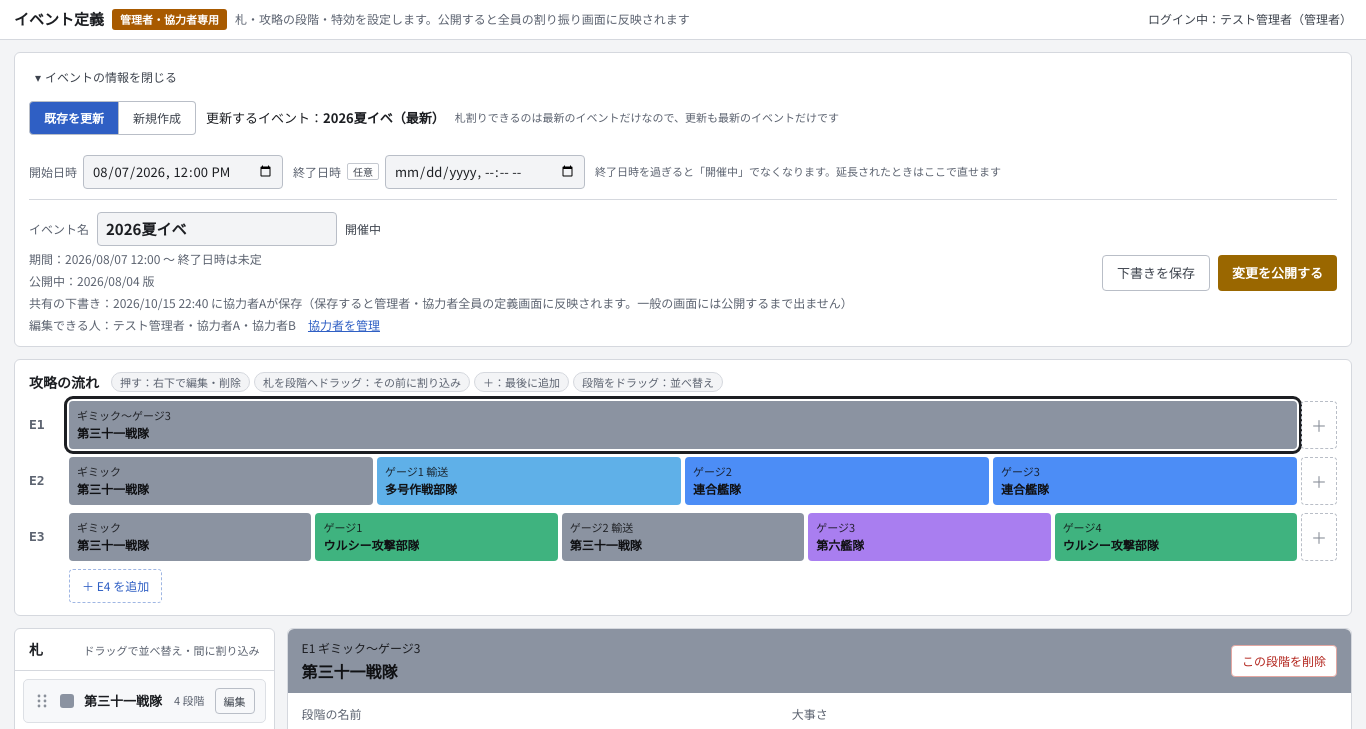
イベント定義の画面（PlanEditor）：段階の詳細 › 段階の削除 › 「この段階を削除」を押すと、削除の確認（「削除する」「やめる」）を出す
Expected: the element "攻略の流れ" is shown, [14,358,1352,616]
Click the button "ゲージ3 連合艦隊": (1020, 470) [993,456,1297,504]
(page scrolled)
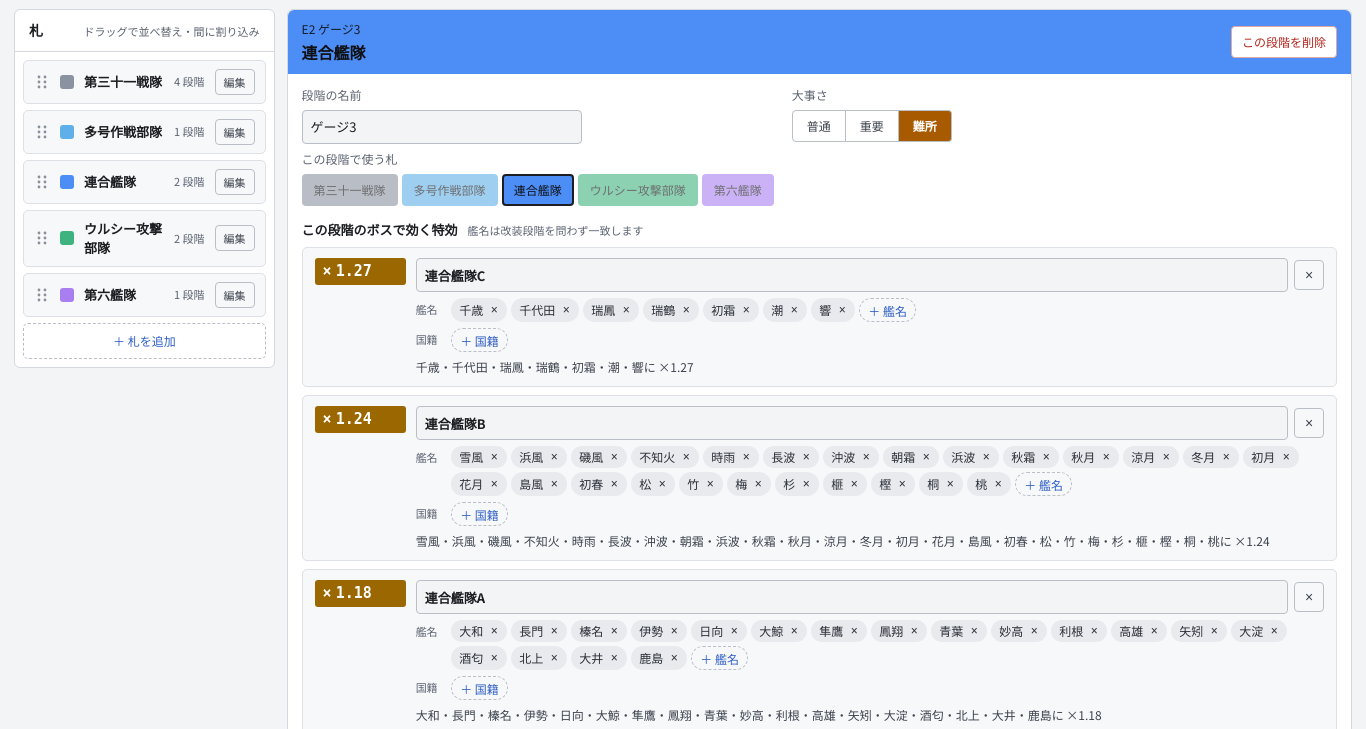
Click the button "この段階を削除": (1284, 42) [1231,26,1337,58]
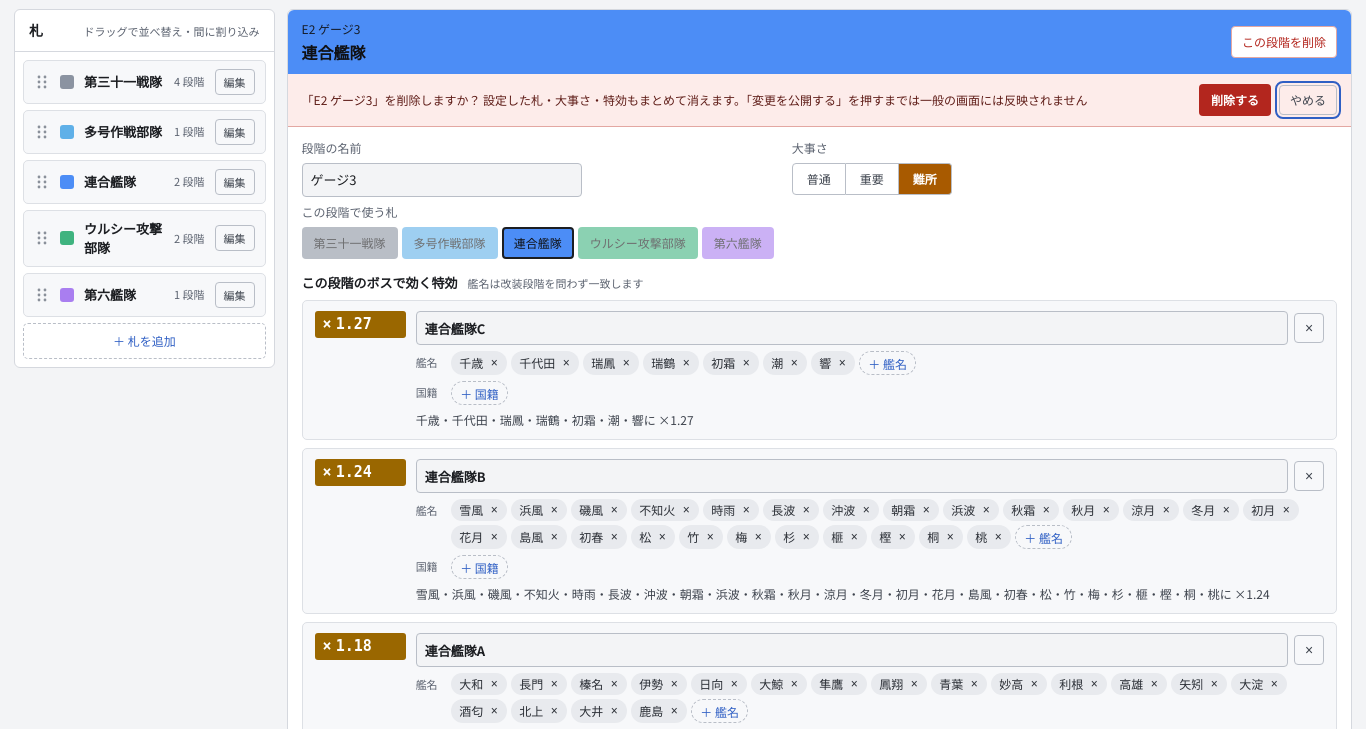
Now the dialog named "段階の削除の確認" shows "「E2 ゲージ3」を削除しますか？ 設定した札・大事さ・特効もまとめて消えます。「変更を公開する」を押すまでは一般の画面には反映されません", box [302,90,1088,108]
Now the button "削除する" is shown, box [1199,84,1271,116]
Now the button "やめる" is shown, box [1279,84,1337,114]
